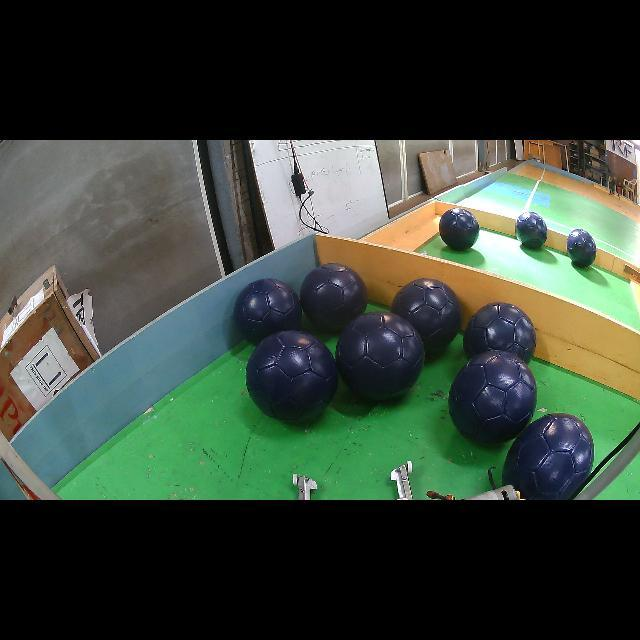B: (246, 330, 338, 422), (449, 350, 538, 445), (502, 412, 594, 500), (335, 311, 424, 400), (391, 279, 461, 354), (300, 262, 368, 331), (464, 302, 536, 364), (234, 279, 301, 344), (439, 208, 480, 251), (515, 211, 548, 249), (566, 229, 596, 268)
